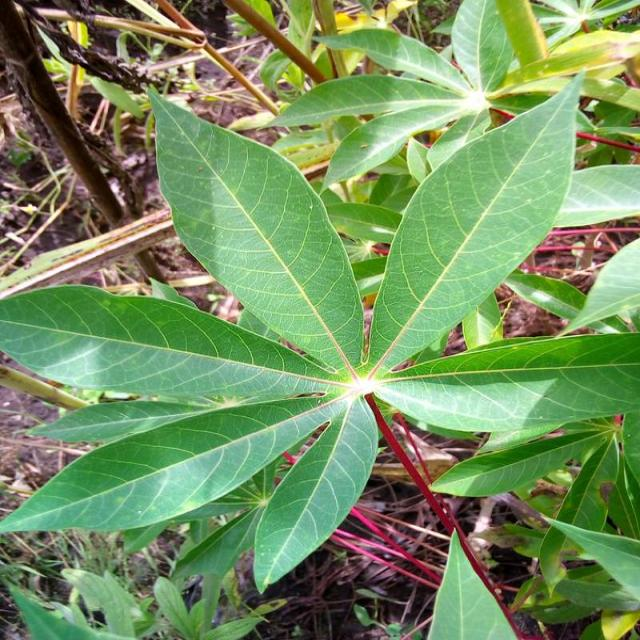cassava leaf: (366, 68, 586, 374), (144, 83, 366, 378), (252, 391, 379, 594)
